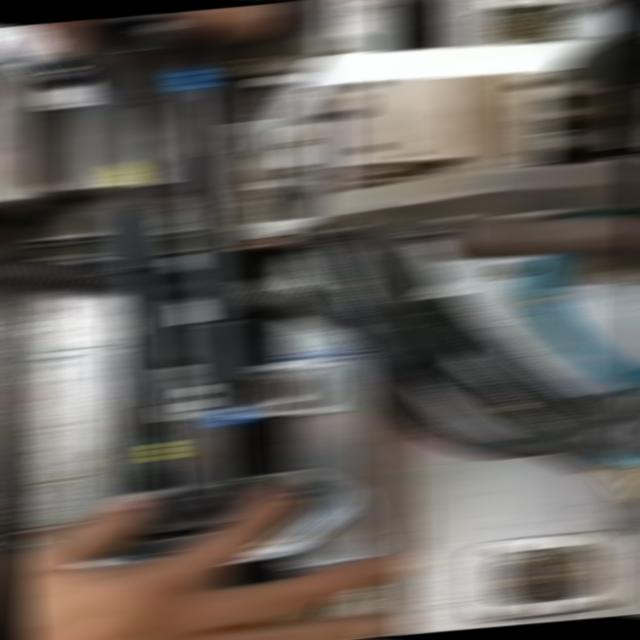blue: (168, 66, 210, 90), (210, 407, 248, 425)
yellow: (144, 442, 180, 460)
